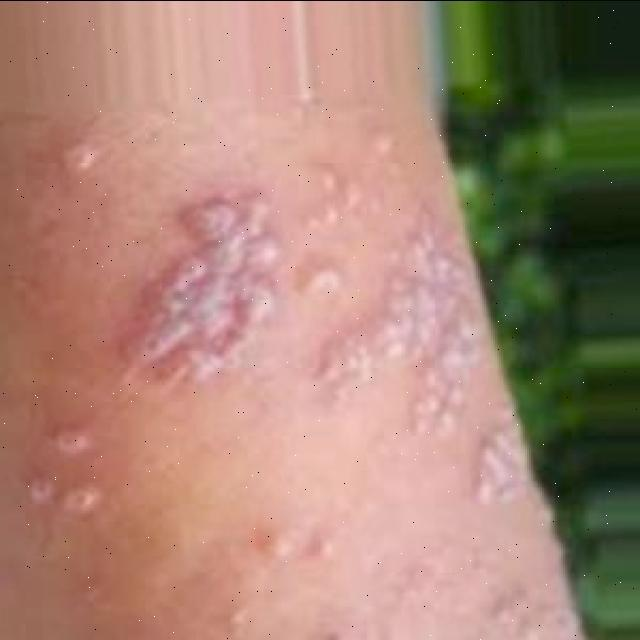Shingles: (315, 204, 481, 435), (120, 191, 282, 387), (28, 428, 100, 514), (474, 406, 522, 508), (61, 137, 100, 177)
